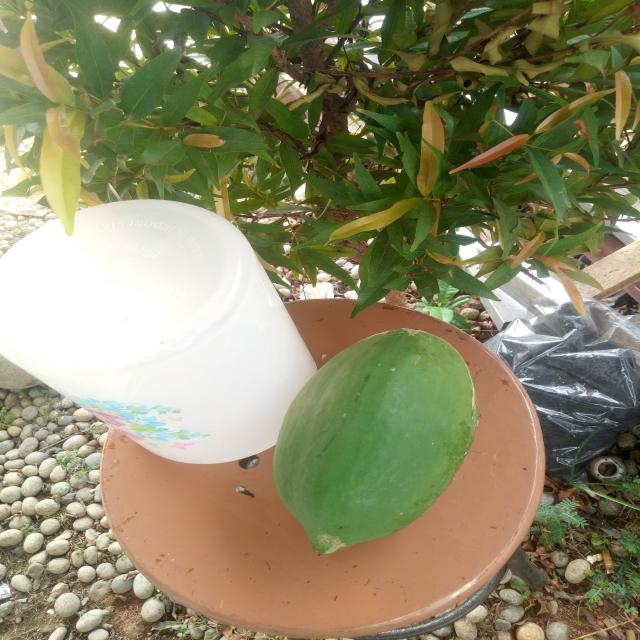Pepaya unrippen: (265, 318, 486, 559)
